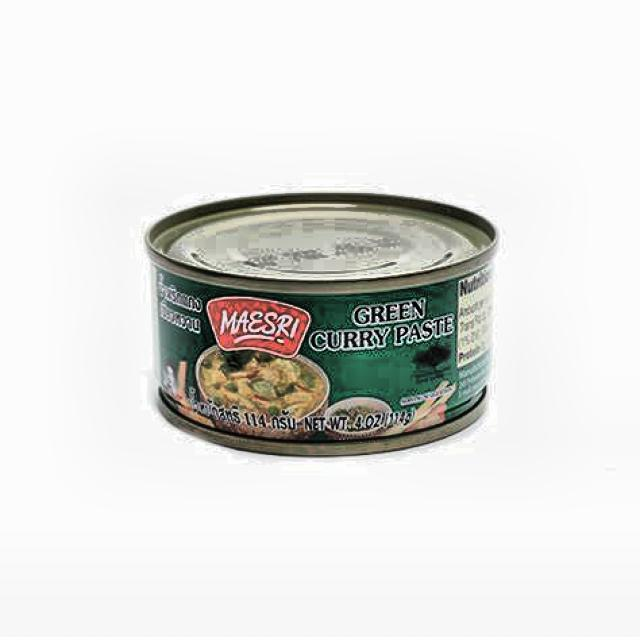Cans: (143, 194, 496, 450)
